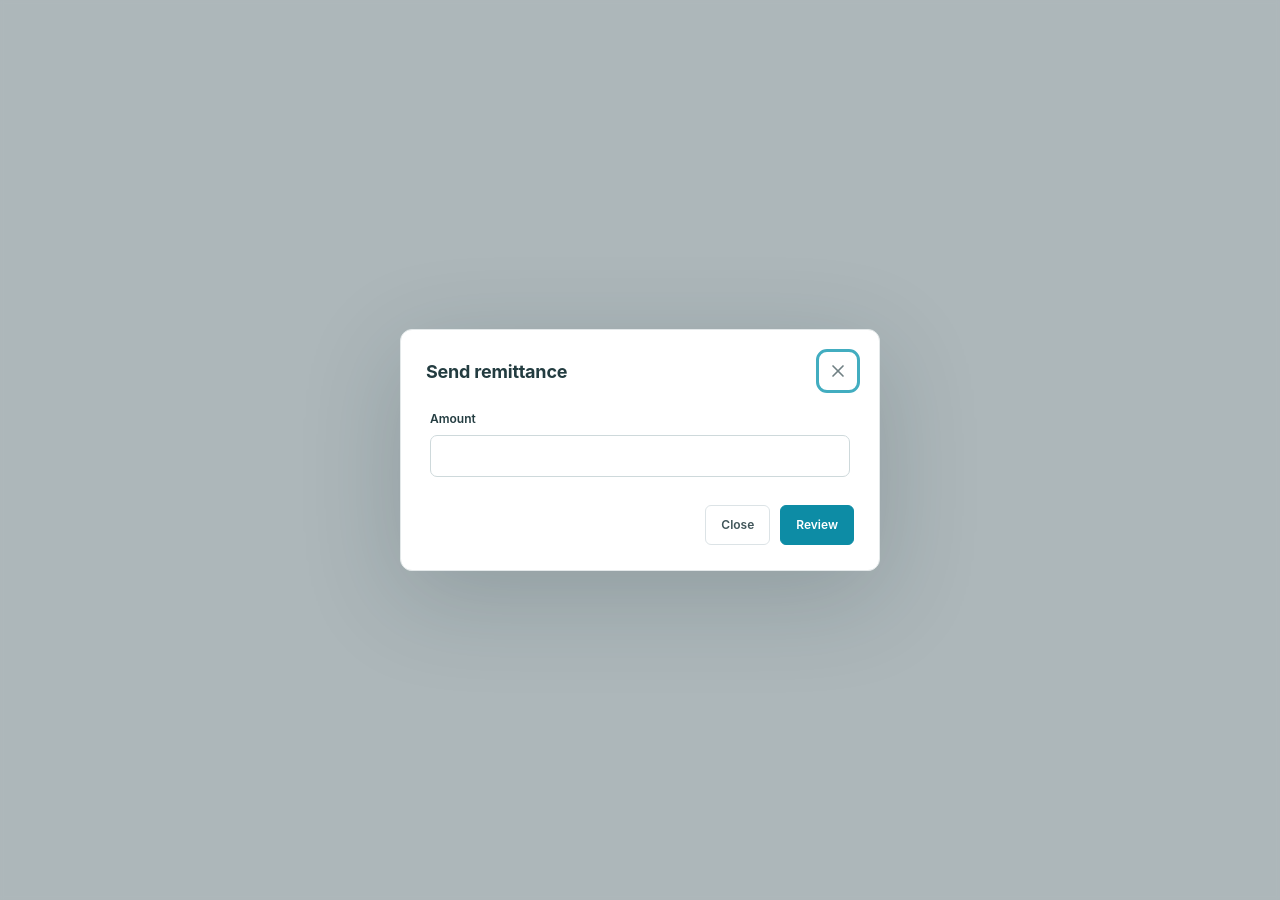
Scenario: financial operation review › shows the calculated quote before confirming a remittance
Type "20" into the field labelled "Amount" at (640, 456), box [430,435,850,477]
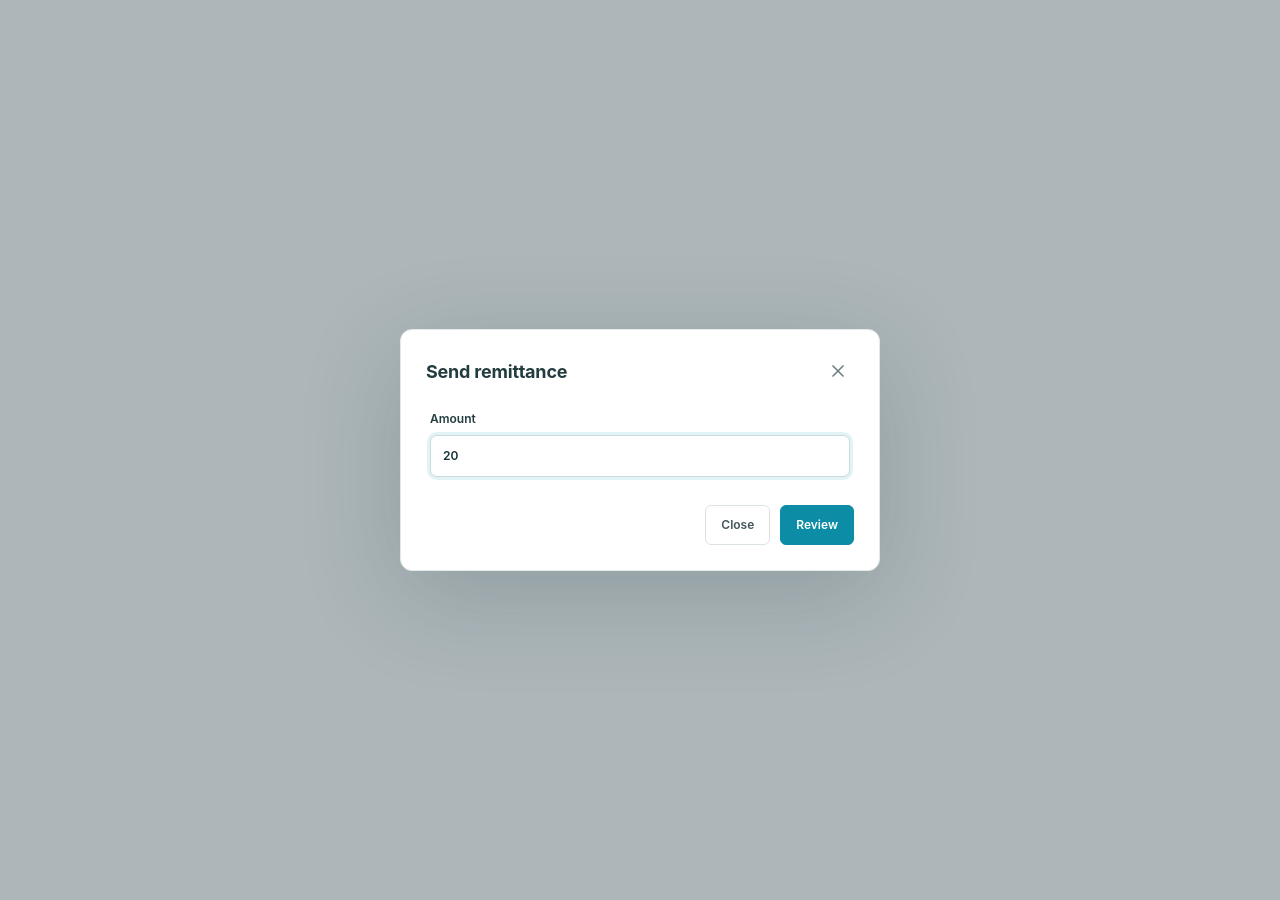
Click the button "Review" at (817, 525), box [780,505,854,545]
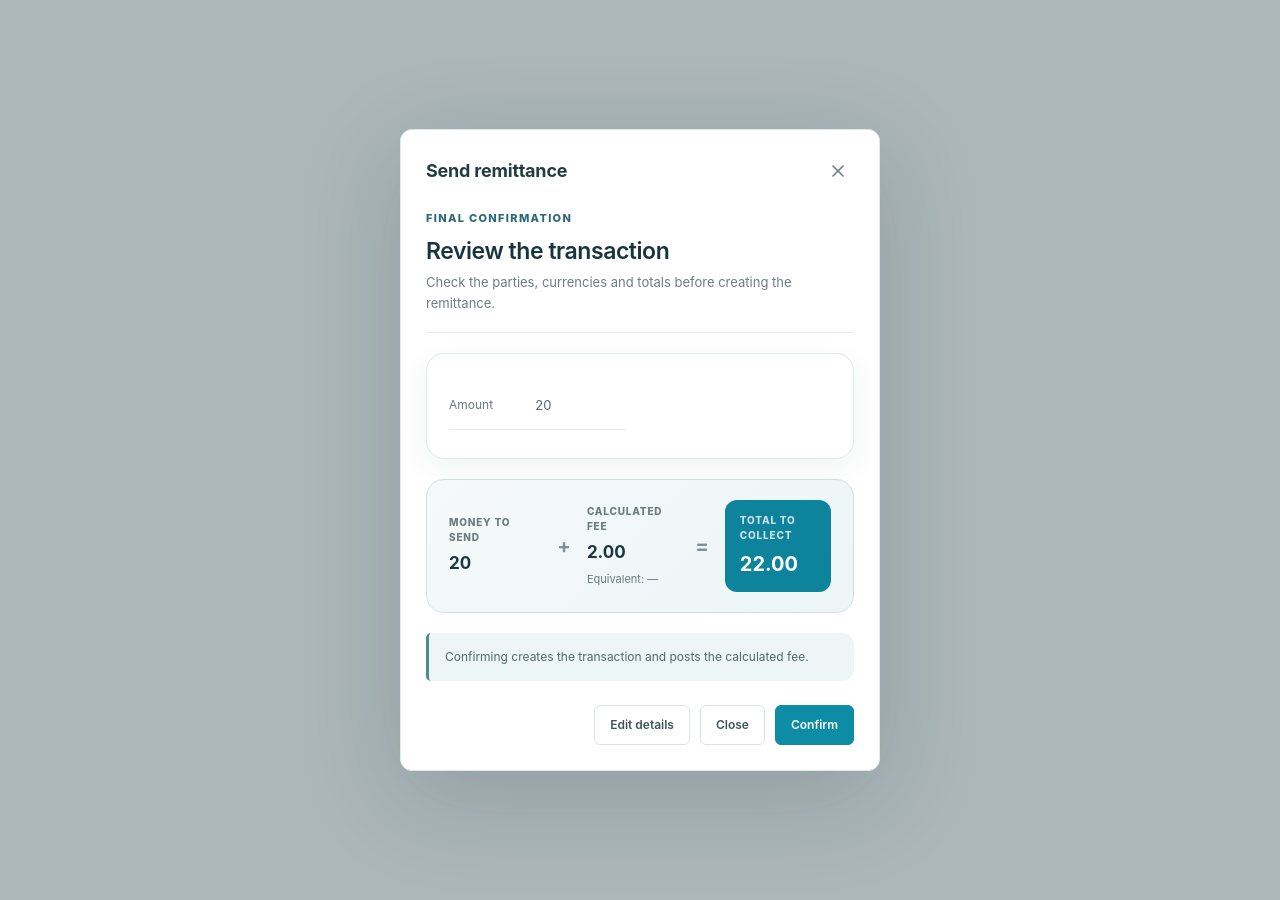
Expected: the text "22.00" is shown, [740,552,798,576]
Click the button "Confirm" at (814, 725), box [775,705,854,745]
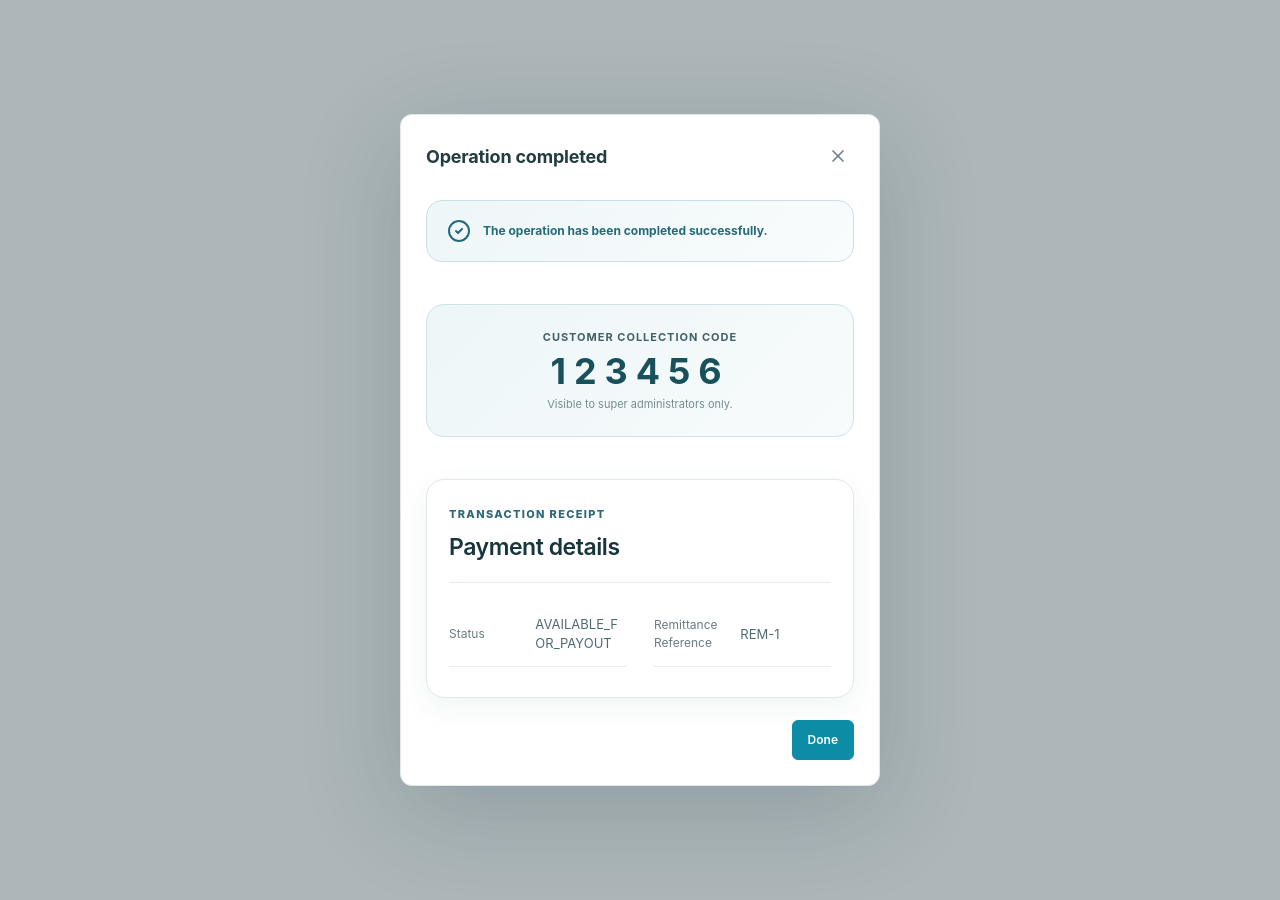
Expected: the text "123456" is shown, [550,353,730,389]
